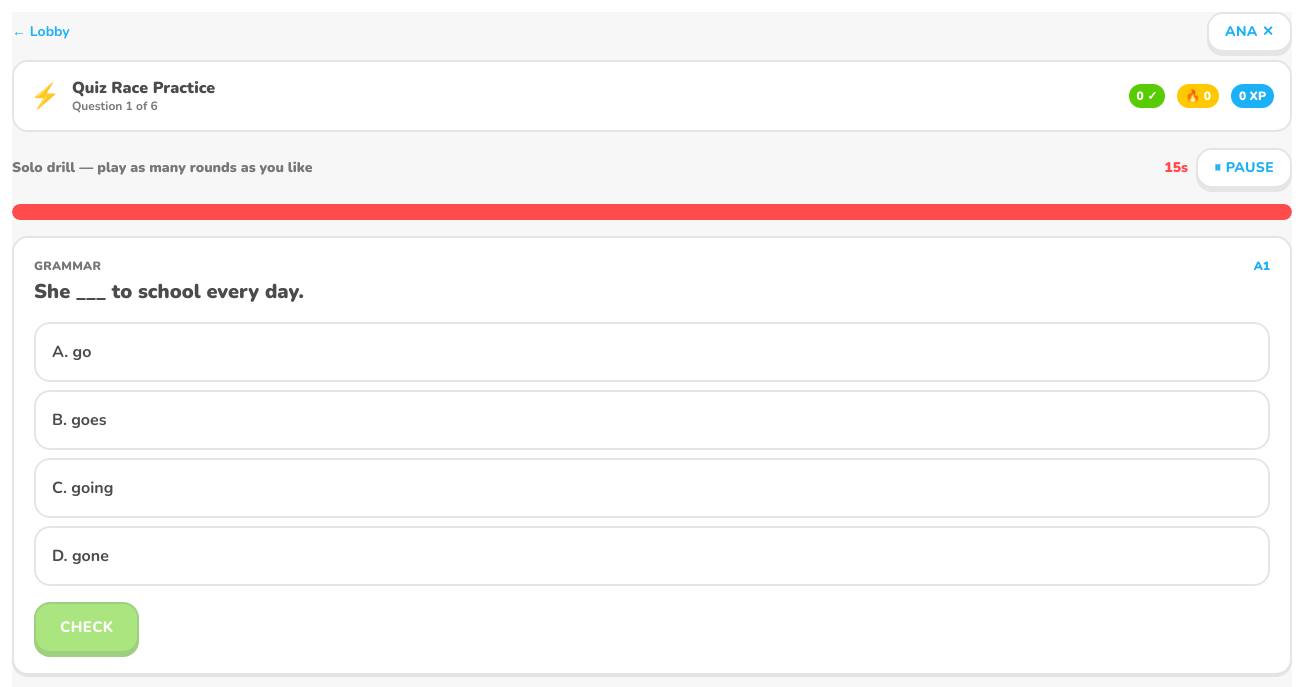
Test: PracticeView › shows the answer after a wrong guess
Click the button with test id "opt-0": (72, 352) [34,322,1270,382]
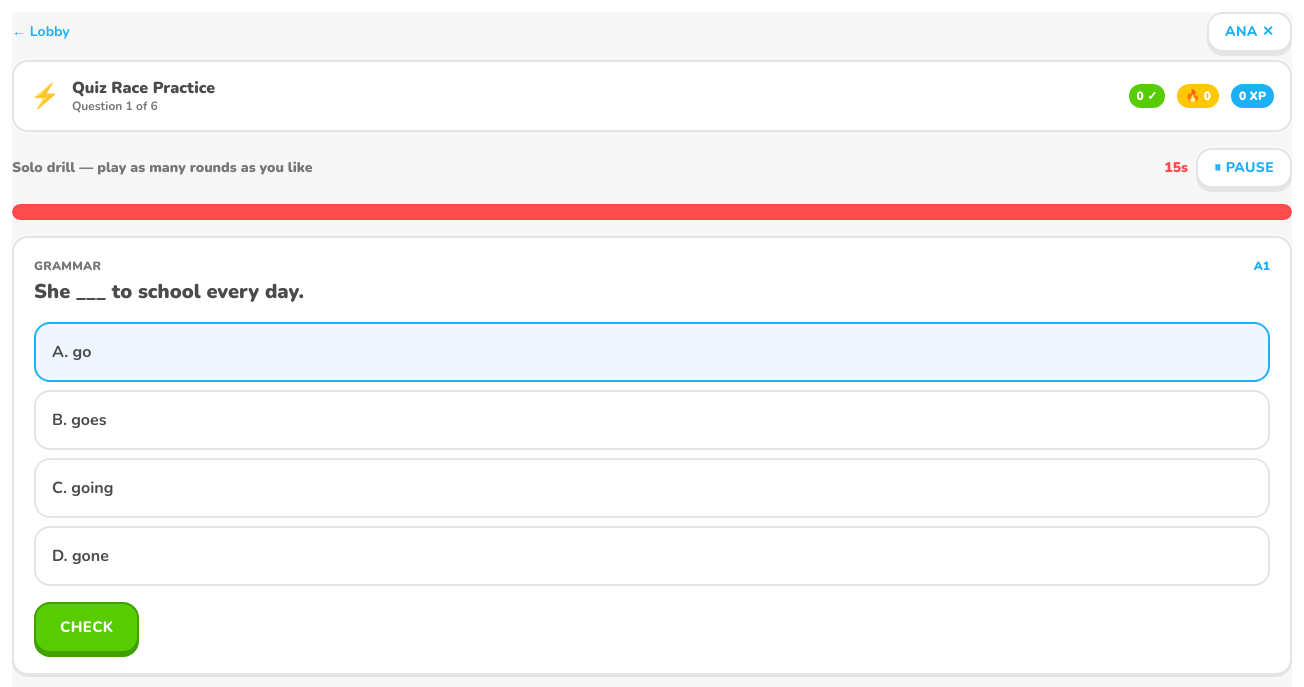
Click the button with test id "practice-submit": (87, 627) [34,602,140,652]
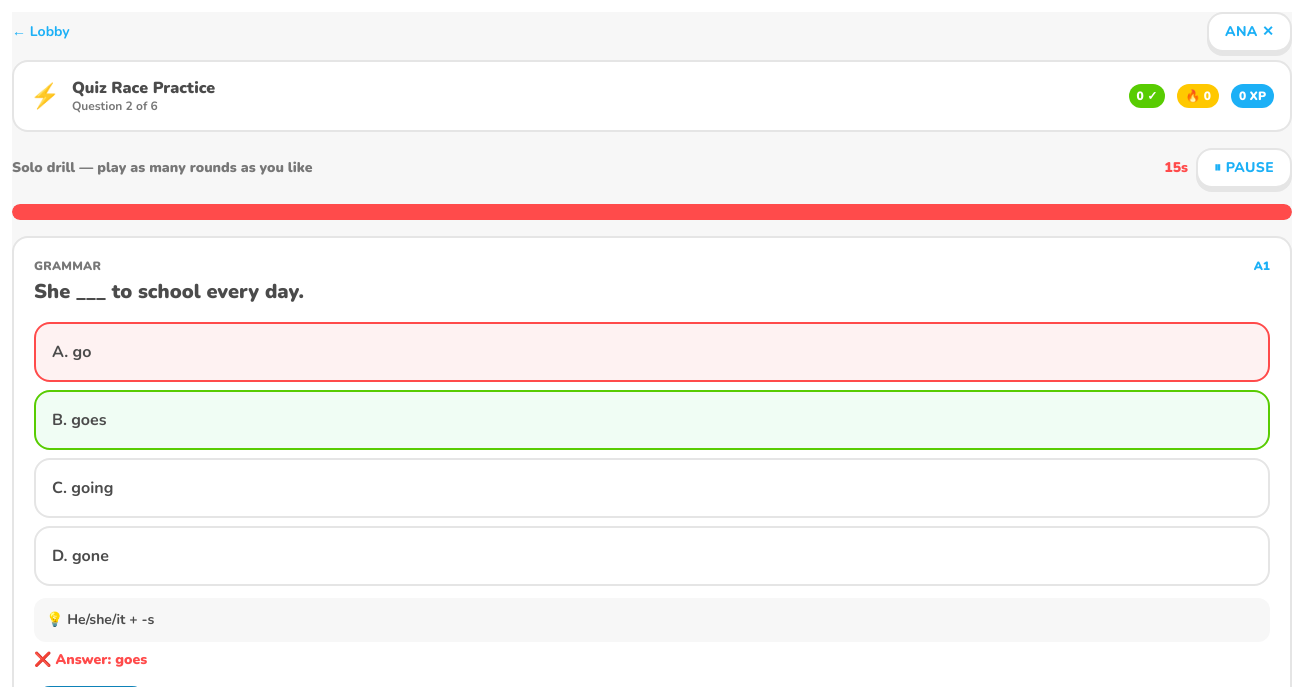
Expected: the text with test id "practice-correct" shows "0", [1137,88,1157,104]
Expected: the text with test id "practice-feedback" shows "❌", [34,650,147,669]
